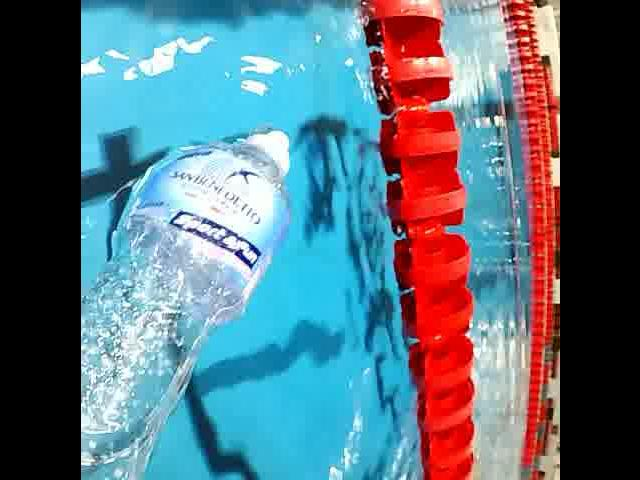Bottle: (80, 120, 299, 480)
